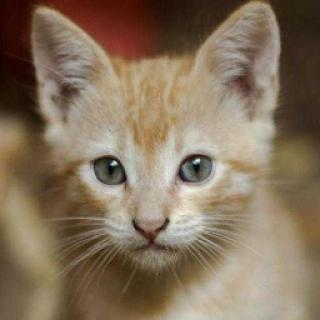cat: (30, 1, 287, 285)
nose: (124, 205, 180, 242)
